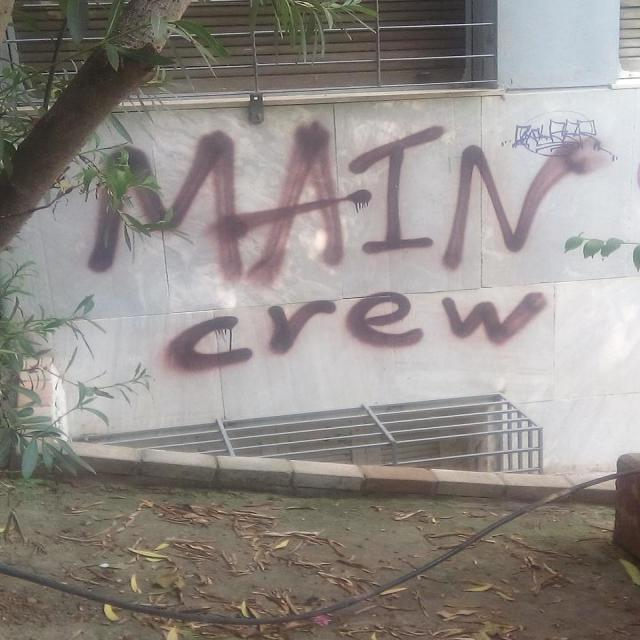nonspitting: (89, 122, 606, 370)
